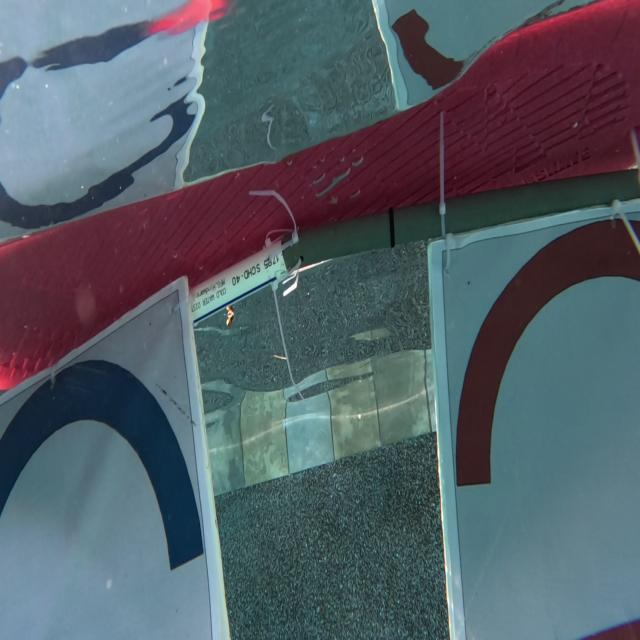blue_side: (0, 336, 199, 640)
red_side: (438, 209, 640, 640)
